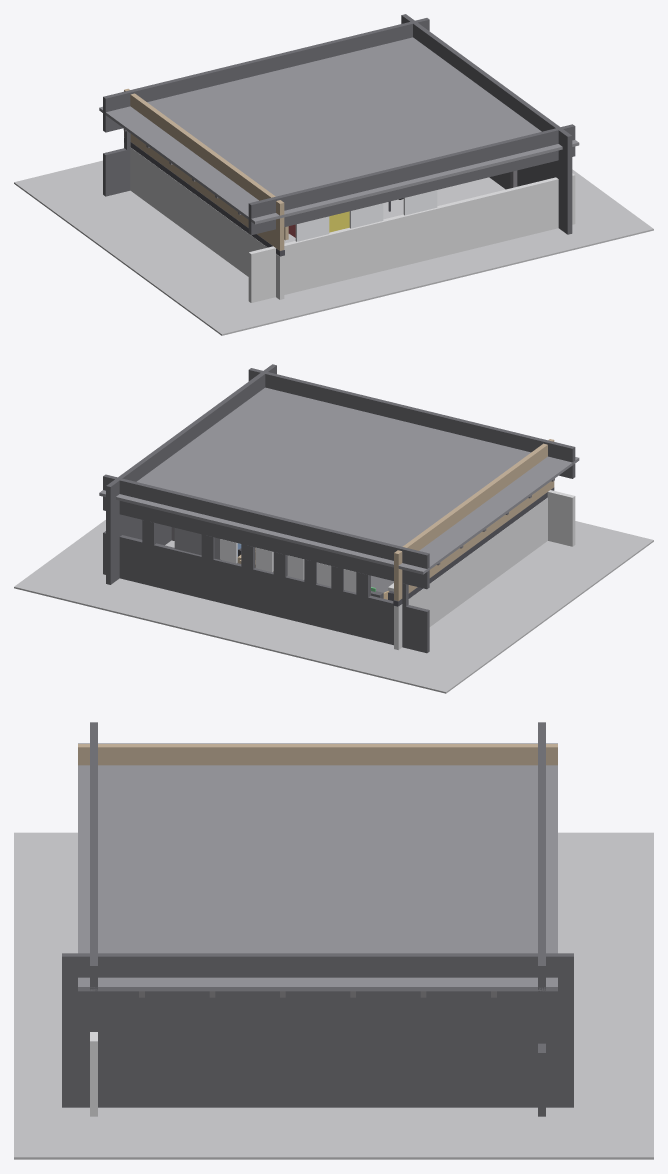
3 renders of one model, top to bottom at view 1: azimuth 30°, elevation 25°; view 2: azimuth 150°, elevation 25°; view 3: azimuth 270°, elevation 25°, orthographic. The views are drawn at different scales.
Parts seen in each view (by area): view 1: Warehouse_Ceiling, Floor_Concrete, Wall_South_Lower, Wall_South_Upper, Wall_West_Lower, Wall_North_Upper, Wall_East, Wall_West_Upper, Wall_North_Lower, Wall_West_Checker, Window_South_1, Window_South_2 (+1 smaller); view 2: Warehouse_Ceiling, Floor_Concrete, Wall_North_Lower, Wall_North_Upper, Wall_West_Lower, Wall_South_Upper, Wall_East, Wall_West_Upper, Wall_South_Lower, Wall_West_Checker, Rollup_Door_NE; view 3: Warehouse_Ceiling, Floor_Concrete, Wall_East, Wall_West_Upper, Wall_North_Upper, Wall_South_Upper, Wall_South_Lower.
Part boxes in pixels (box(x1,y1,x2,y2)): Warehouse_Ceiling: box(99, 37, 579, 224); Floor_Concrete: box(14, 160, 653, 335); Wall_South_Lower: box(248, 173, 575, 302); Wall_South_Upper: box(248, 124, 575, 235); Wall_West_Lower: box(124, 143, 284, 299); Wall_North_Upper: box(103, 18, 429, 132); Wall_East: box(401, 14, 572, 234); Wall_West_Upper: box(124, 88, 284, 250); Wall_North_Lower: box(103, 148, 130, 196); Wall_West_Checker: box(124, 137, 284, 256); Window_South_1: box(349, 203, 383, 228); Window_South_2: box(403, 190, 437, 215); Warehouse_Ceiling: box(99, 387, 579, 574); Floor_Concrete: box(14, 520, 653, 693); Wall_North_Lower: box(103, 531, 429, 653); Wall_North_Upper: box(103, 474, 429, 589); Wall_West_Lower: box(394, 497, 547, 649); Wall_South_Upper: box(248, 368, 575, 478); Wall_East: box(106, 364, 276, 584); Wall_West_Upper: box(394, 439, 554, 600); Wall_South_Lower: box(547, 490, 575, 546); Wall_West_Checker: box(393, 487, 554, 606); Rollup_Door_NE: box(174, 528, 221, 560); Warehouse_Ceiling: box(78, 743, 557, 991); Floor_Concrete: box(14, 832, 653, 1159); Wall_East: box(62, 953, 573, 1107); Wall_West_Upper: box(78, 744, 557, 765); Wall_North_Upper: box(538, 722, 545, 1017); Wall_South_Upper: box(90, 722, 97, 1012); Wall_South_Lower: box(90, 1032, 97, 1116).
Size of the model in its own units: 24 by 5.28 by 20.
